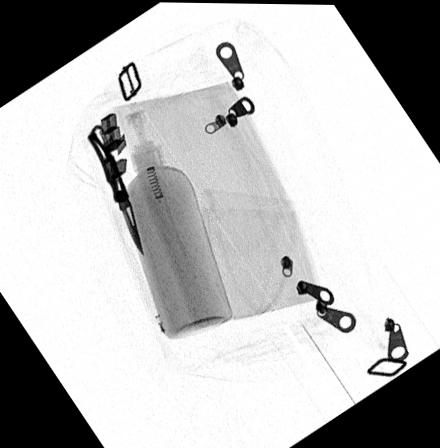Knife: (86, 124, 145, 256)
